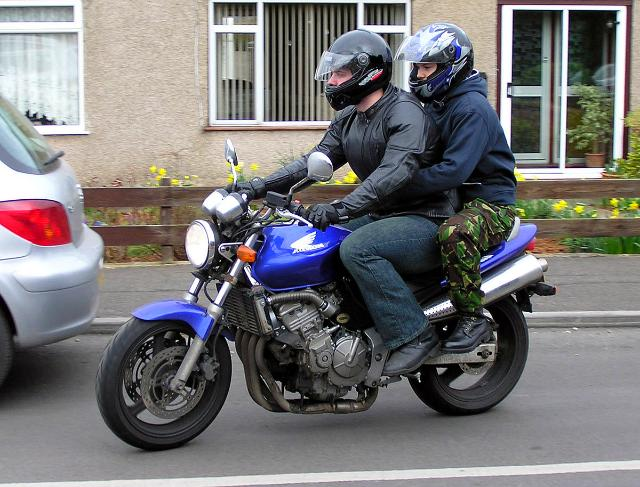helm: (310, 30, 398, 115), (396, 21, 478, 107)
motor: (94, 135, 560, 453)
